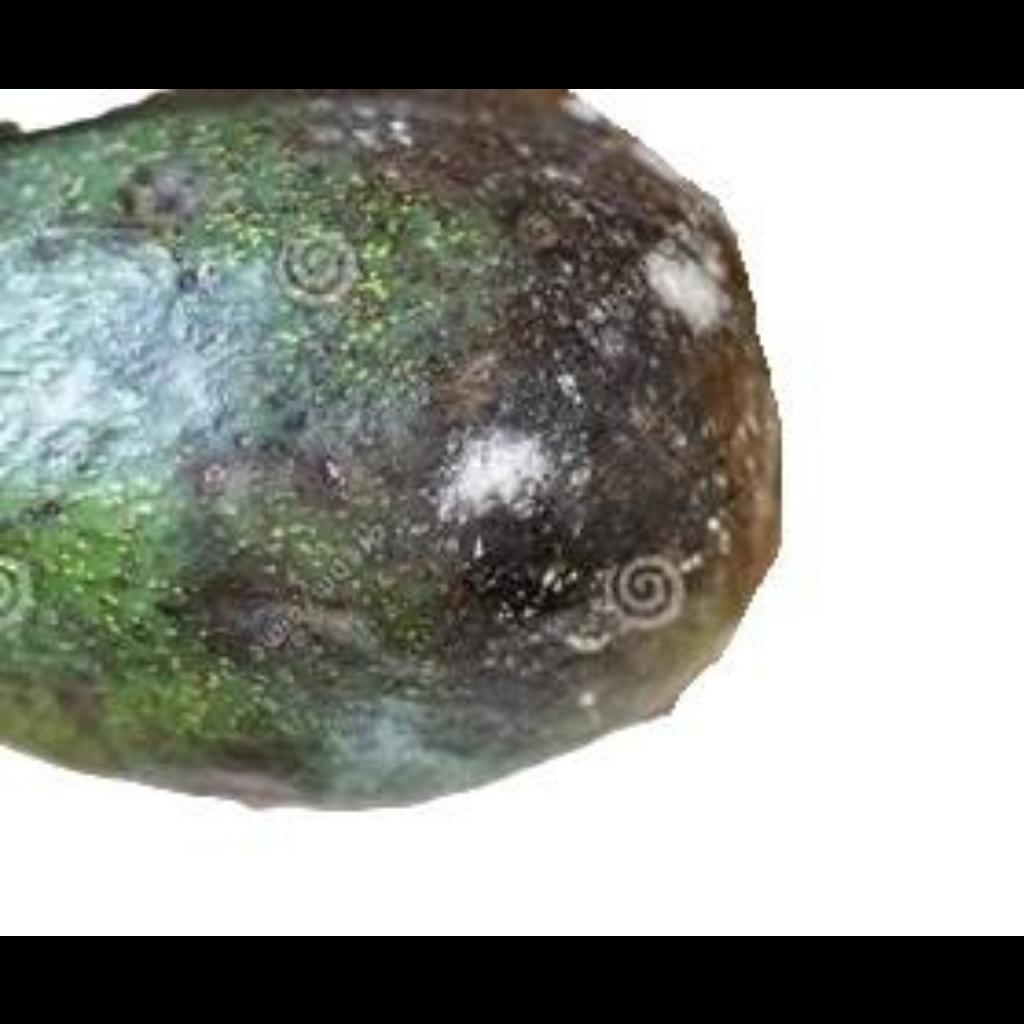antracnosis_fruto: (1, 108, 764, 721)
